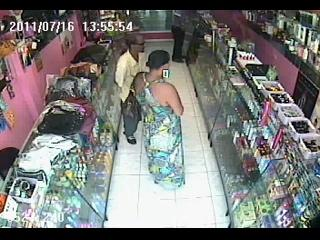Normal: (132, 50, 185, 192), (114, 34, 146, 144), (171, 11, 201, 64)
